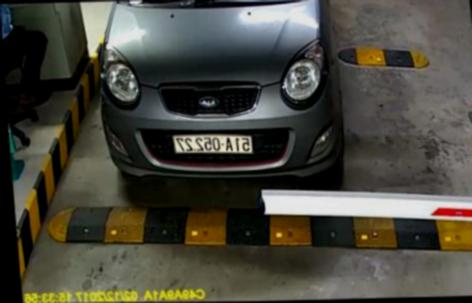License_Plate: (171, 128, 261, 161)
